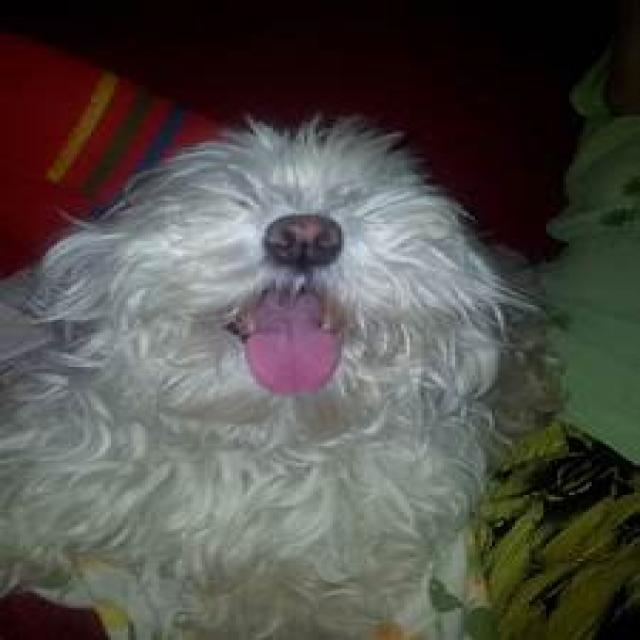dog: (0, 115, 563, 640)
